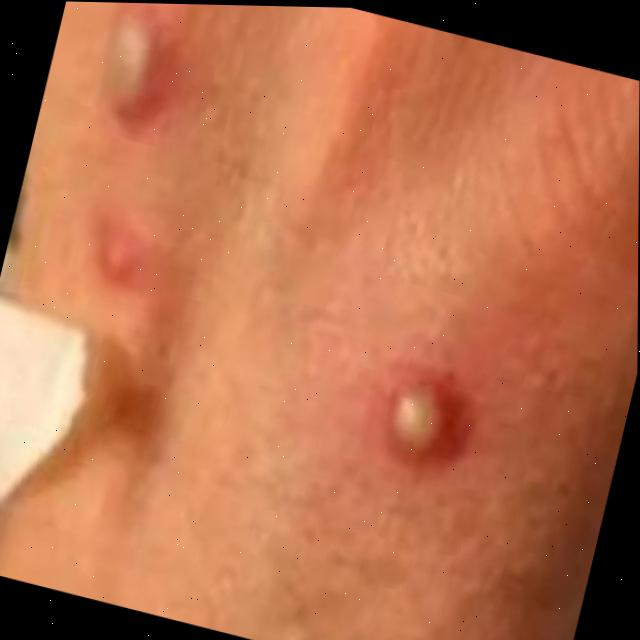Eczema: (82, 2, 195, 142), (360, 355, 468, 471)
